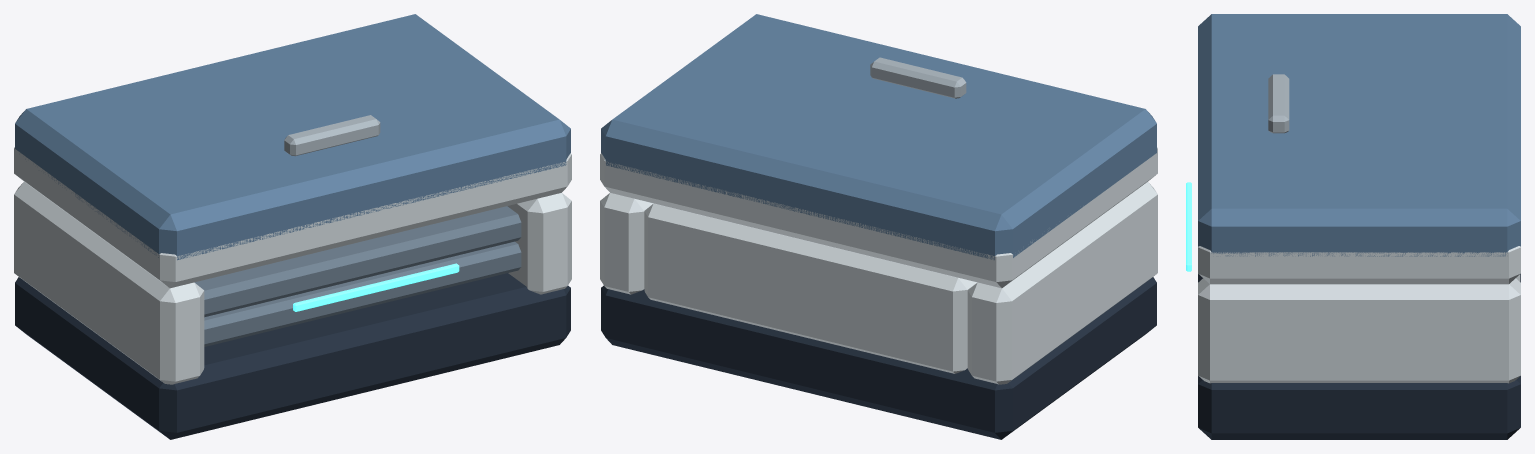
File: safes_12.glb
The picture shows the model from 3 angles, left to right: view 1: azimuth 30°, elevation 25°; view 2: azimuth 150°, elevation 25°; view 3: azimuth 270°, elevation 25°; orthographic projection. The views are drawn at different scales.
Parts seen in each view (by area): view 1: Lid, Base, Side (×2), InsideShelf (×2), Top, Handle, StatusLight; view 2: Lid, Back, Base, Side (×2), Top, Handle; view 3: Lid, Side, Base, Top, Handle, StatusLight.
Part boxes in pixels (x1,y1,x2,y2): Lid: (15, 14, 570, 260); Base: (15, 273, 570, 439); Side (×2): (14, 182, 571, 384); InsideShelf (×2): (194, 206, 521, 346); Top: (14, 147, 571, 288); Handle: (284, 115, 380, 156); StatusLight: (293, 263, 459, 311); Lid: (601, 14, 1156, 260); Back: (644, 203, 977, 373); Base: (601, 277, 1156, 439); Side (×2): (600, 182, 1157, 384); Top: (600, 147, 1157, 288); Handle: (870, 57, 966, 98); Lid: (1198, 14, 1520, 256); Side: (1198, 278, 1520, 383); Base: (1198, 274, 1520, 439); Top: (1198, 246, 1520, 284); Handle: (1268, 74, 1289, 133); StatusLight: (1186, 182, 1191, 271).
Bounding box in the file's own units: 0.65 × 0.364 × 0.446.
